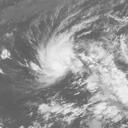cyclone: (31, 35, 81, 86)
